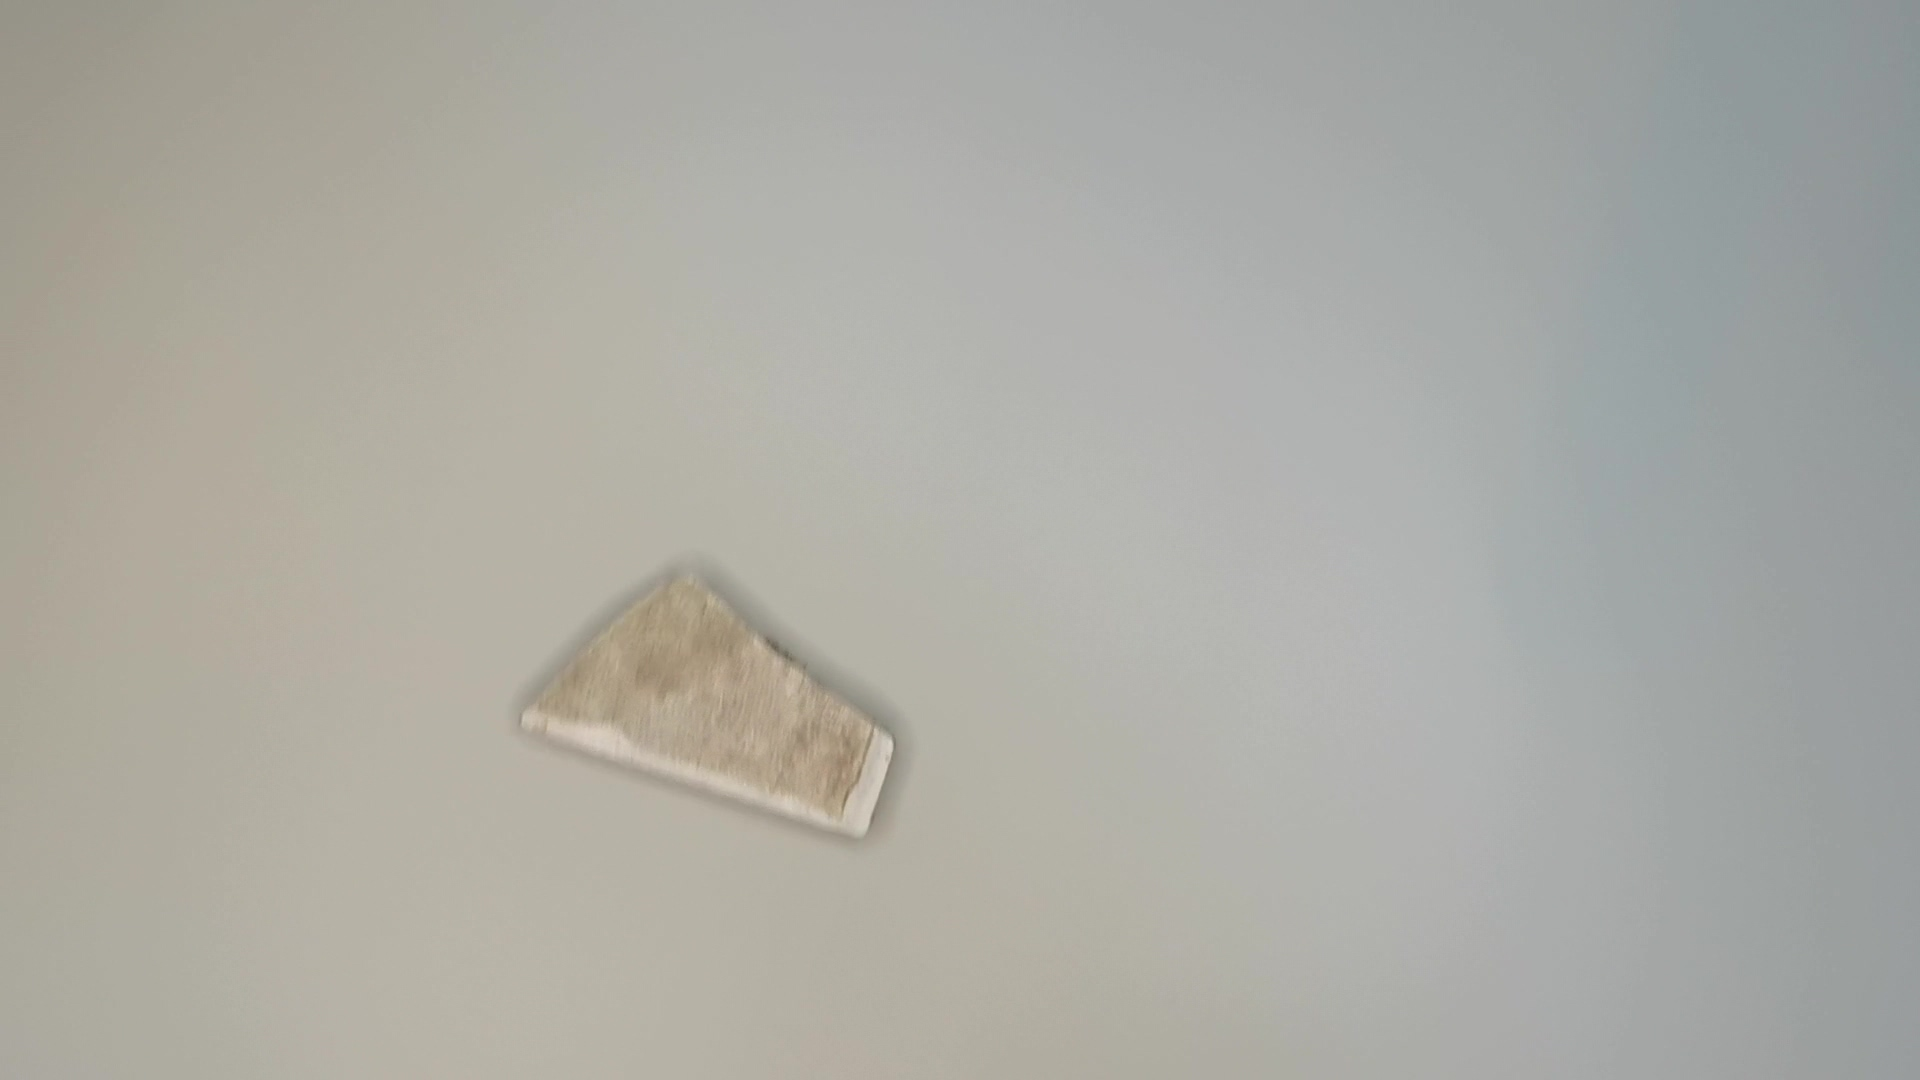ceramic: (517, 567, 901, 848)
